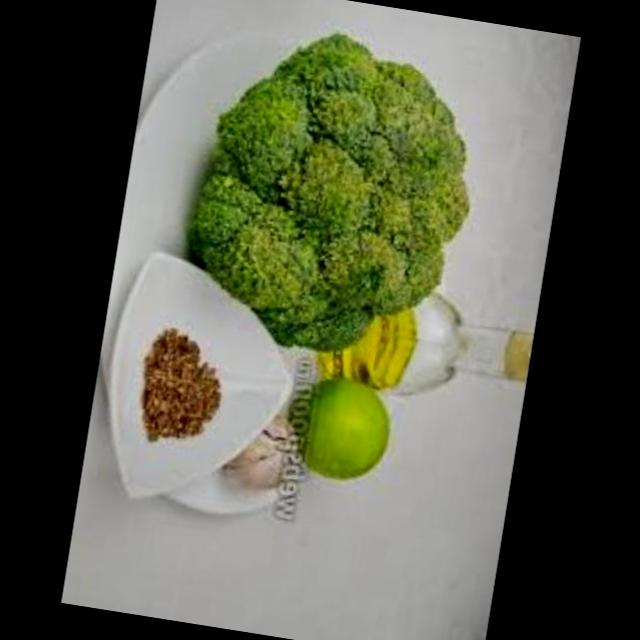Broccoli: (123, 0, 501, 367)
garlic: (219, 398, 313, 508)
